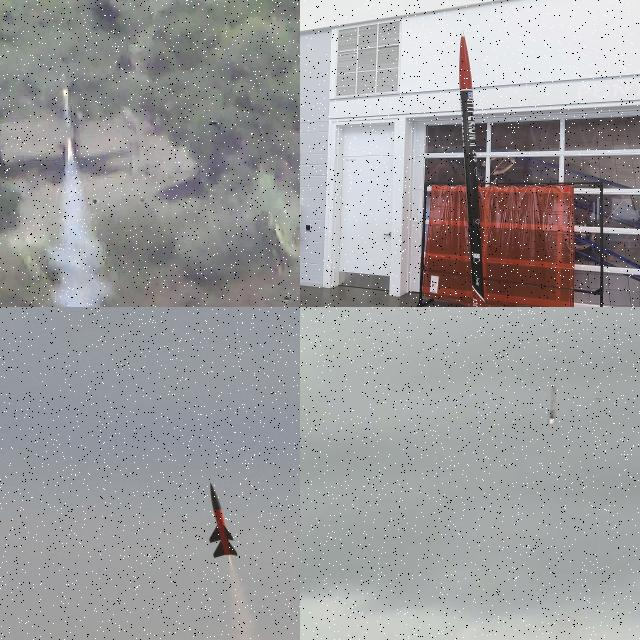Rocket: (459, 29, 485, 307), (208, 482, 238, 558), (61, 85, 76, 138), (546, 384, 560, 418)
